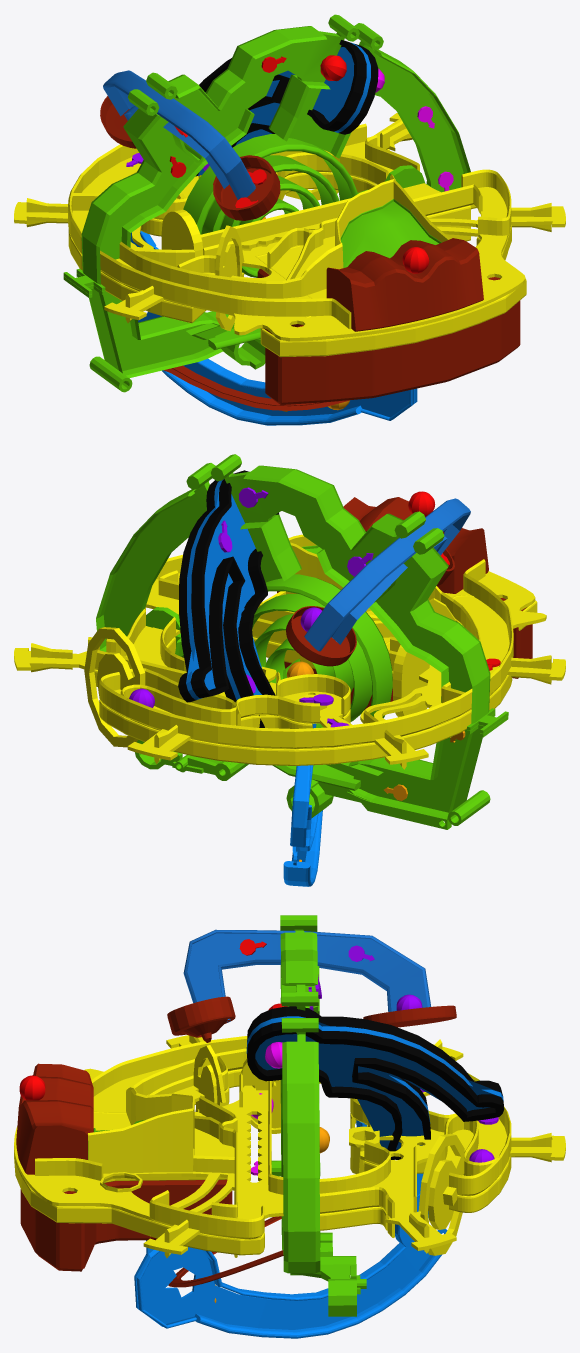
File: Maze_Ball_Test_11.0.fbx
3 renders of one model, top to bottom at view 1: azimuth 30°, elevation 25°; view 2: azimuth 150°, elevation 25°; view 3: azimuth 270°, elevation 25°, orthographic.
Visible parts, largest first — view 1: Yellow, Green, Back_Red_Part, Start_Red_Part, Blue, Blue_Part, Block, Blue_Part_3_Wall, Beside, Red_Line, Beside_1, pSphere1 (+1 smaller); view 2: Green, Yellow, Blue_Part, Blue, Start_Red_Part, Blue_Part_3_Wall, Beside_1, Block, Back_Red_Part; view 3: Yellow, Blue, Blue_Part, Green, Block, Start_Red_Part, Back_Red_Part, Blue_Part_3_Wall, Beside, Beside_1, Red_Line, pSphere1.
Part boxes in pixels (<box>): Yellow: <box>14,113,565,356</box>; Green: <box>63,14,470,392</box>; Back_Red_Part: <box>257,269,520,404</box>; Start_Red_Part: <box>326,238,483,331</box>; Blue: <box>103,70,415,419</box>; Blue_Part: <box>195,40,378,176</box>; Block: <box>335,178,450,267</box>; Blue_Part_3_Wall: <box>140,231,417,425</box>; Beside: <box>213,155,280,220</box>; Red_Line: <box>164,365,349,410</box>; Beside_1: <box>100,96,136,148</box>; pSphere1: <box>402,247,429,273</box>; Green: <box>96,454,508,829</box>; Yellow: <box>14,555,565,769</box>; Blue_Part: <box>178,470,278,727</box>; Blue: <box>292,498,470,865</box>; Start_Red_Part: <box>343,497,488,593</box>; Blue_Part_3_Wall: <box>283,723,322,886</box>; Beside_1: <box>286,606,356,666</box>; Block: <box>262,534,370,611</box>; Back_Red_Part: <box>277,591,532,710</box>; Yellow: <box>14,1035,565,1258</box>; Blue: <box>134,929,447,1329</box>; Blue_Part: <box>246,1006,504,1159</box>; Green: <box>271,915,366,1316</box>; Block: <box>87,1093,234,1173</box>; Start_Red_Part: <box>16,1063,93,1174</box>; Back_Red_Part: <box>20,1179,232,1271</box>; Blue_Part_3_Wall: <box>134,1120,442,1338</box>; Beside: <box>167,996,235,1042</box>; Beside_1: <box>363,1005,456,1027</box>; Red_Line: <box>168,1216,283,1287</box>; pSphere1: <box>19,1075,45,1100</box>.
Bounding box in the file's own units: 24.97 × 20.43 × 26.62.
